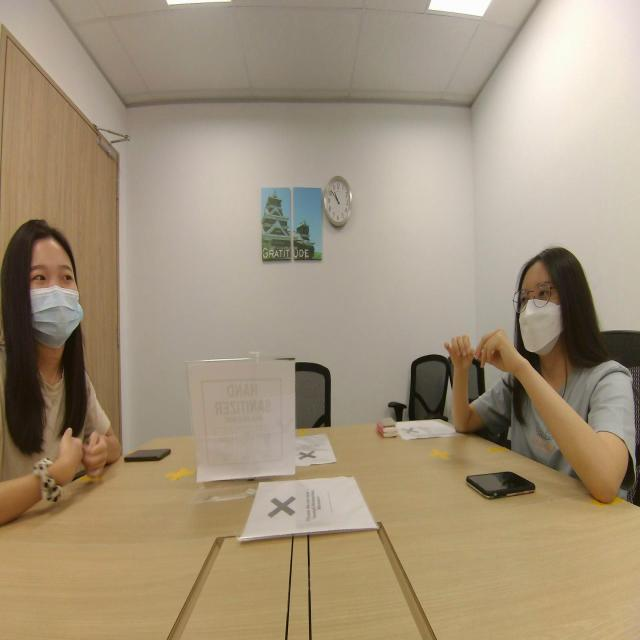obstacle: (462, 198, 626, 441), (0, 172, 111, 479)
